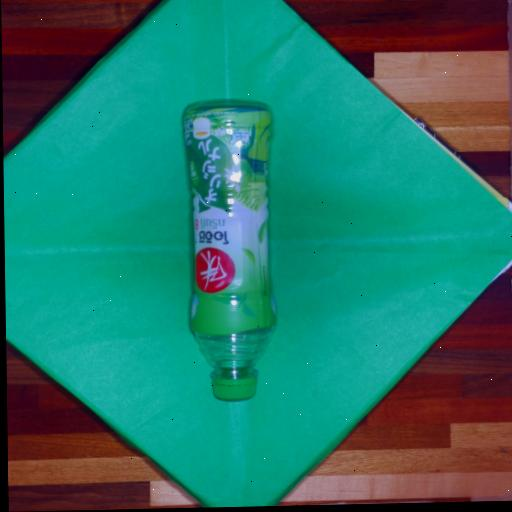bottle: (166, 80, 298, 424)
